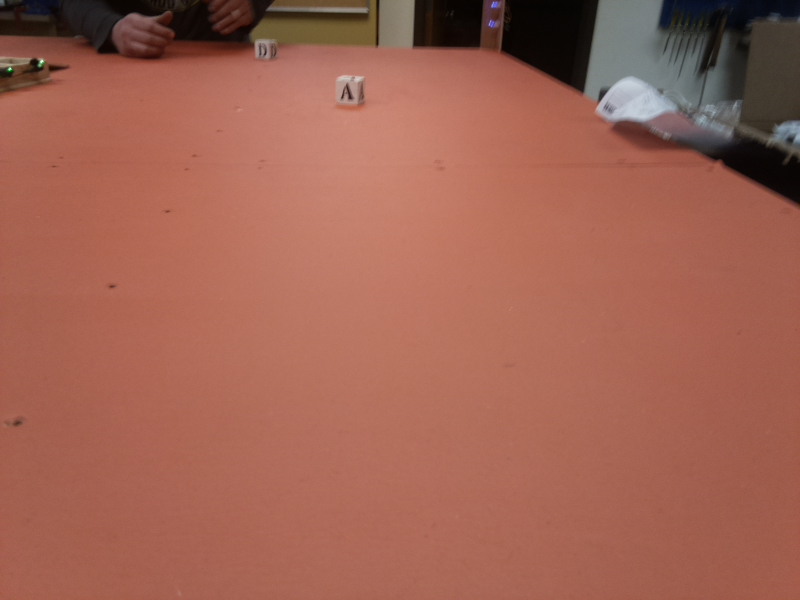blockA: (335, 75, 365, 107)
blockD: (252, 37, 281, 63)
corner: (476, 1, 509, 52)
side: (1, 58, 52, 92)
slope: (48, 60, 74, 71)
